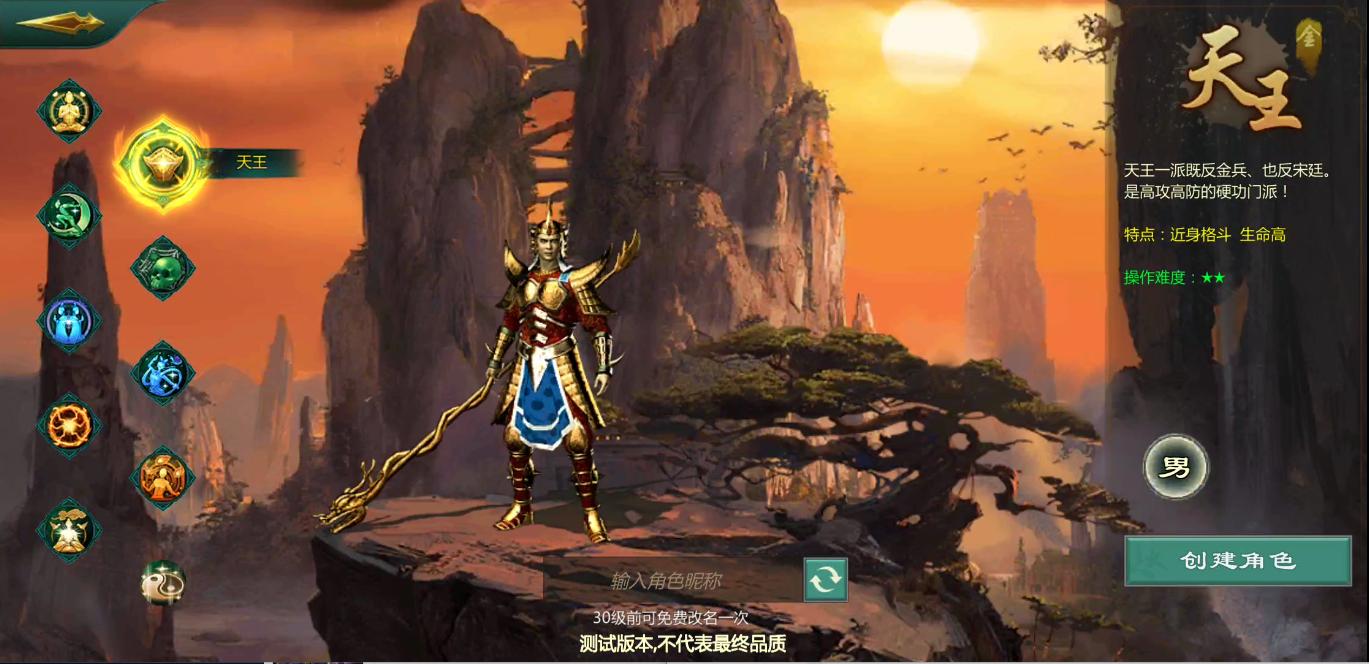cuiyan: (134, 339, 198, 405)
emei: (33, 285, 103, 359)
gaibang: (31, 389, 104, 464)
kunlun: (133, 554, 193, 612)
name: (805, 555, 850, 604)
shaolin: (34, 75, 99, 149)
tangmen: (33, 179, 103, 255)
tianren: (126, 442, 201, 512)
wudang: (36, 492, 104, 569)
wudu: (129, 232, 198, 304)
